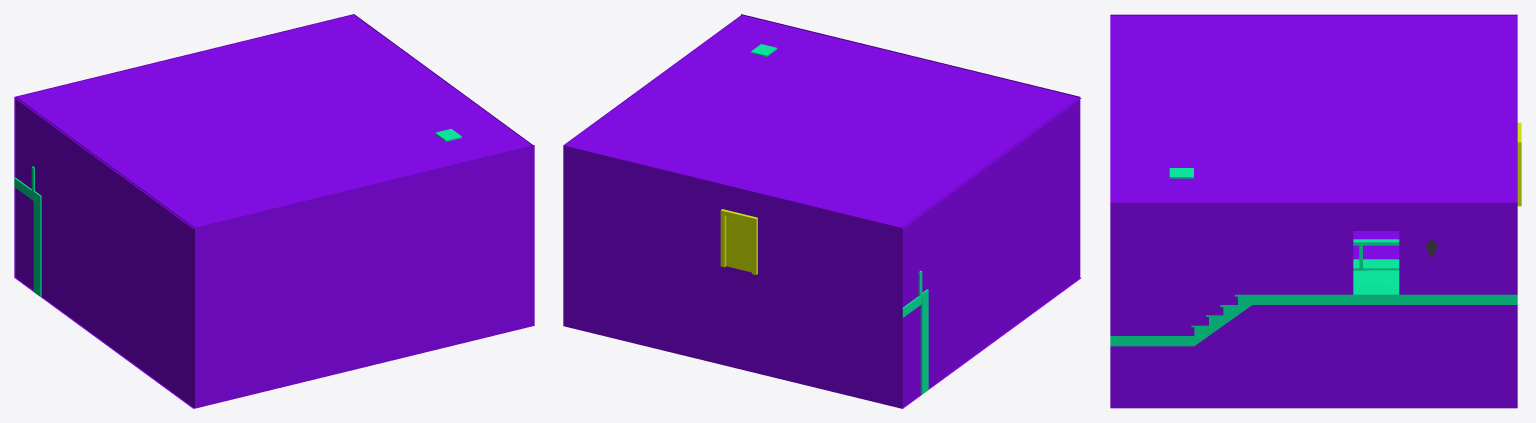
File: bar.glb
3 renders of one model, left to right at view 1: azimuth 30°, elevation 25°; view 2: azimuth 150°, elevation 25°; view 3: azimuth 270°, elevation 25°, orthographic. The views are drawn at different scales.
Parts seen in each view (by area): view 1: floor_walls, stairs; view 2: floor_walls, door, stairs; view 3: floor_walls, stairs, door.
Boxes of the visible parts, x1,y1,x2,y2 form: floor_walls: [14, 14, 534, 408]; stairs: [14, 128, 461, 296]; floor_walls: [563, 14, 1081, 408]; door: [720, 209, 757, 274]; stairs: [750, 44, 928, 394]; floor_walls: [1110, 14, 1517, 408]; stairs: [1110, 168, 1517, 346]; door: [1517, 122, 1521, 206].
Size of the model in its own units: 5.87 by 3 by 5.39.
